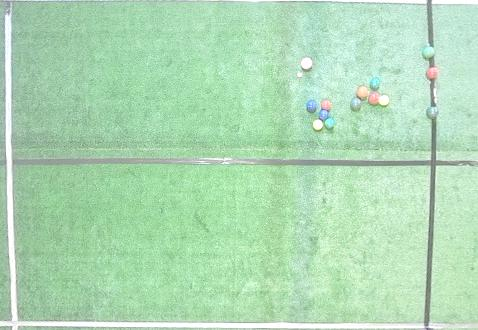blue: (306, 100, 317, 112), (319, 110, 329, 121)
green: (422, 46, 435, 60), (426, 106, 439, 119), (350, 97, 362, 109), (369, 78, 381, 90), (324, 117, 335, 129)
red: (426, 66, 439, 80), (300, 57, 313, 69), (357, 86, 368, 99), (368, 93, 379, 105), (321, 100, 332, 111)
vline: (423, 117, 478, 329), (0, 1, 22, 329), (425, 1, 477, 45), (429, 78, 477, 106)
white: (297, 72, 303, 77)
yellow: (312, 119, 323, 131), (379, 94, 389, 105)
